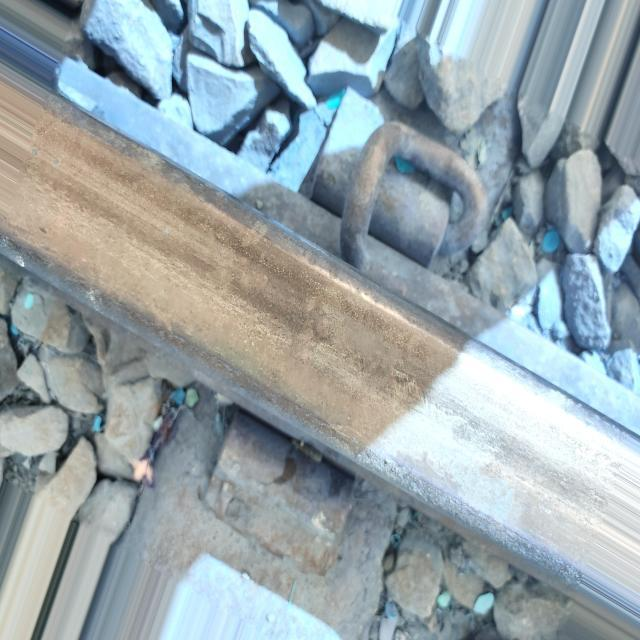Good Fasteners: (293, 93, 500, 304)
Missing Fastener: (180, 417, 370, 588)
